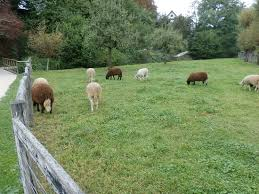sheep: (31, 78, 55, 115), (186, 71, 217, 88), (84, 83, 101, 110), (239, 75, 259, 92), (132, 69, 151, 82), (86, 68, 101, 82), (103, 69, 122, 80)
